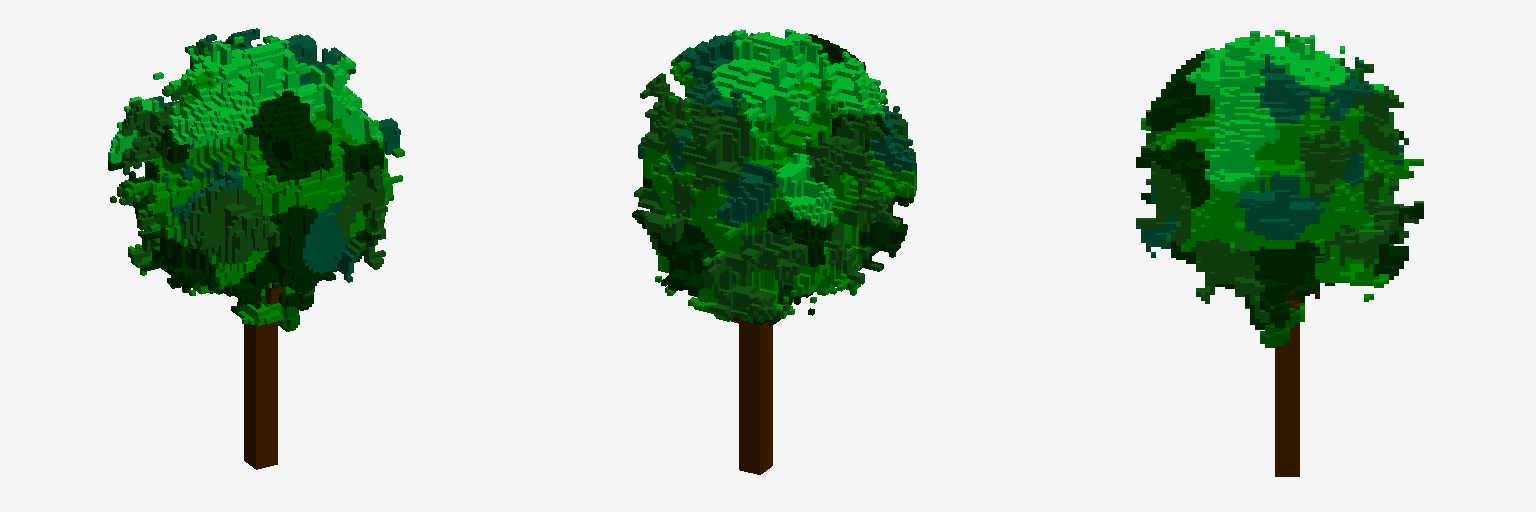
3 renders of one model, left to right at view 1: azimuth 30°, elevation 25°; view 2: azimuth 150°, elevation 25°; view 3: azimuth 270°, elevation 25°, orthographic.
Bounding box in the file's own units: 59 × 94 × 58.
Materials: 1 (1 with a texture image).